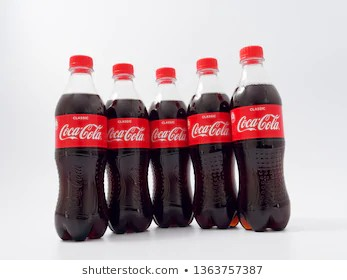coke-bottle-700ml: (230, 40, 293, 234), (54, 55, 110, 241), (189, 53, 232, 230), (109, 59, 151, 235), (152, 66, 187, 226)
